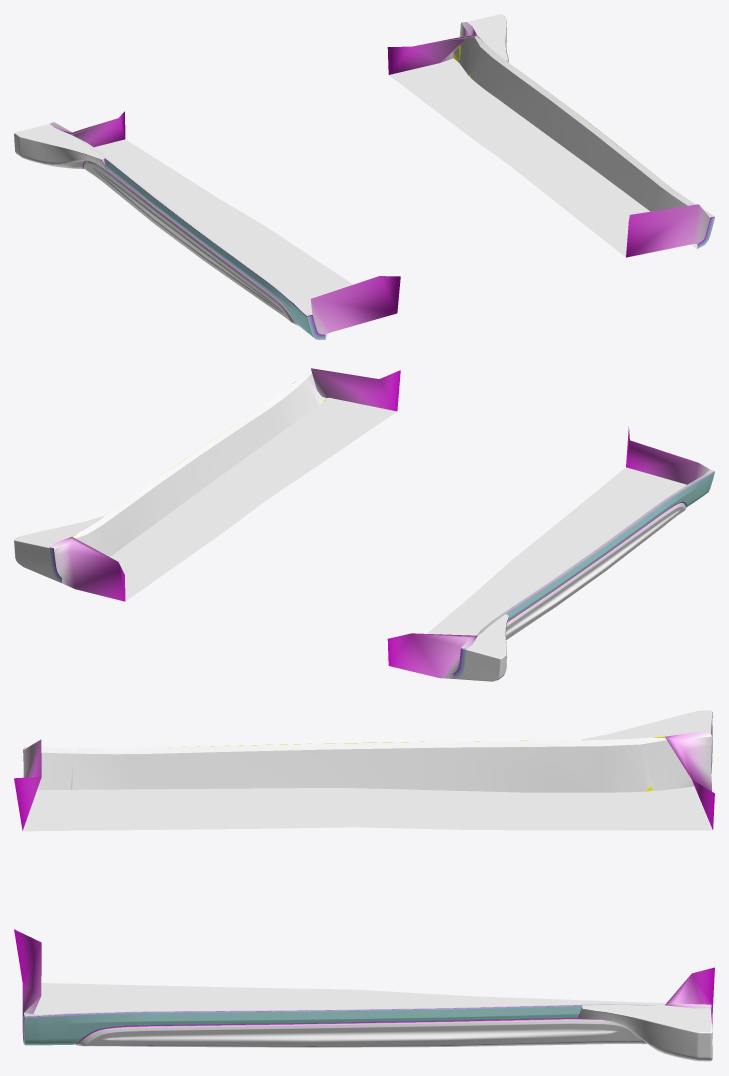
Rendered from Car_Mini_CountrymanJCW_2017_Skirts_SetA_AltB.fbx.
The picture shows the model from 3 angles, top to bottom: view 1: azimuth 30°, elevation 25°; view 2: azimuth 150°, elevation 25°; view 3: azimuth 270°, elevation 25°; orthographic projection. The views are drawn at different scales.
Parts seen in each view (by area): view 1: Skirts 6; view 2: Skirts 6; view 3: Skirts 6.
Boxes of the visible parts, left/top/right/bottom form: Skirts 6: left=14, top=14, right=714, bottom=339; Skirts 6: left=14, top=368, right=714, bottom=681; Skirts 6: left=14, top=710, right=714, bottom=1061.
Size of the model in its own units: 2.07 by 0.1973 by 1.9.
